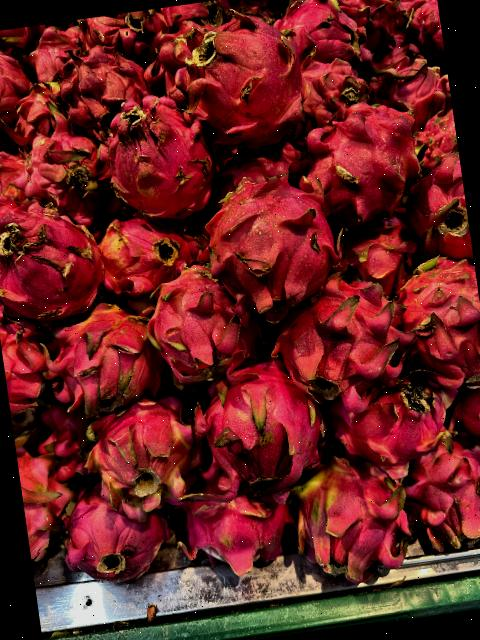buah-naga-belum-matang: (290, 448, 418, 582), (73, 397, 206, 522), (138, 255, 263, 380), (81, 196, 204, 320), (46, 306, 159, 414), (46, 36, 156, 136), (293, 48, 375, 131), (1, 76, 73, 146)
buah-naga-matang: (204, 164, 348, 323), (182, 358, 339, 502), (84, 89, 241, 232), (266, 272, 419, 416), (169, 17, 314, 156), (294, 95, 431, 236), (381, 246, 480, 413), (0, 194, 115, 334), (174, 471, 300, 588), (320, 370, 464, 462), (54, 482, 180, 586), (12, 125, 124, 234), (392, 427, 480, 547), (399, 147, 473, 264), (269, 0, 368, 78), (367, 49, 455, 133), (0, 30, 41, 141)
